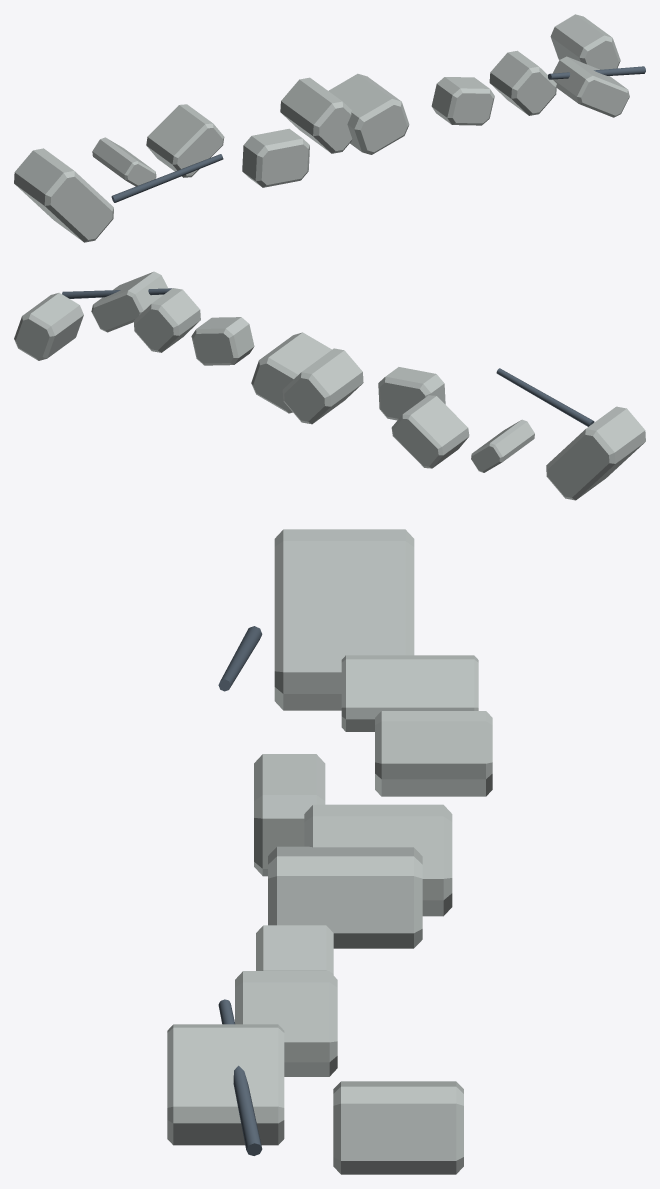
Rendered from breach_debris.glb.
3 views of the same model, one above another, from view 1: azimuth 30°, elevation 25°; view 2: azimuth 150°, elevation 25°; view 3: azimuth 270°, elevation 25° (orthographic). The views are drawn at different scales.
Visible parts, largest first — view 1: breach_debris; view 2: breach_debris; view 3: breach_debris.
Part boxes in pixels (<box>): breach_debris: <box>14,14,645,242</box>; breach_debris: <box>14,271,645,500</box>; breach_debris: <box>167,529,492,1174</box>.
Bounding box in the file's own units: 3.69 × 0.4538 × 0.8802.
